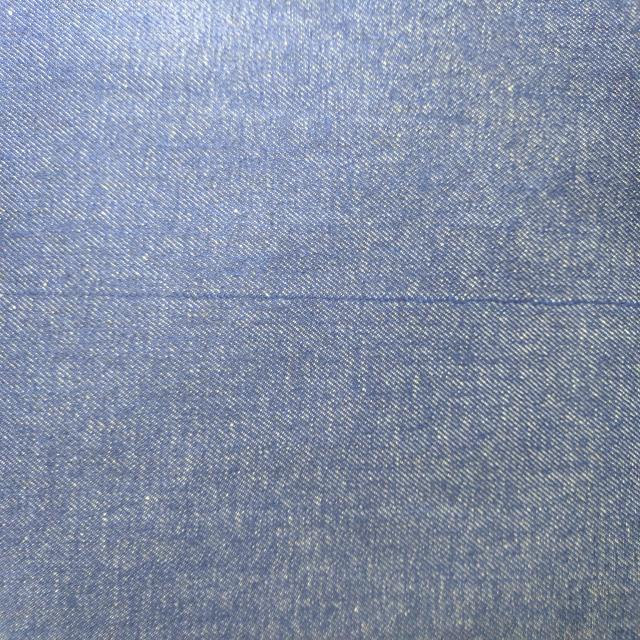Line: (2, 288, 640, 310)
